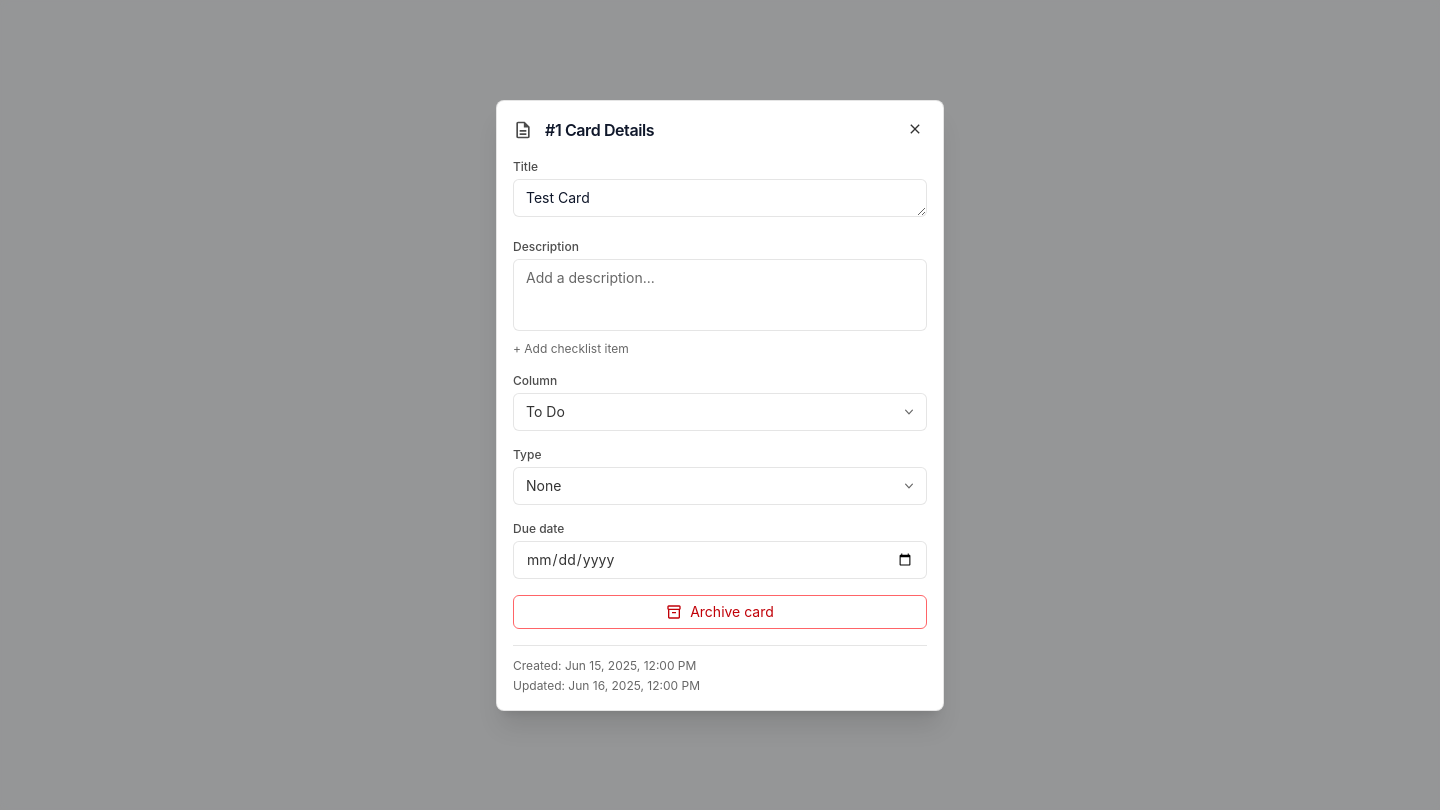
Test: CardDetailModal › checklist features › clicking add button reveals input
Click the button with test id "checklist-add-item-button" at (571, 348), box [513,340,629,356]
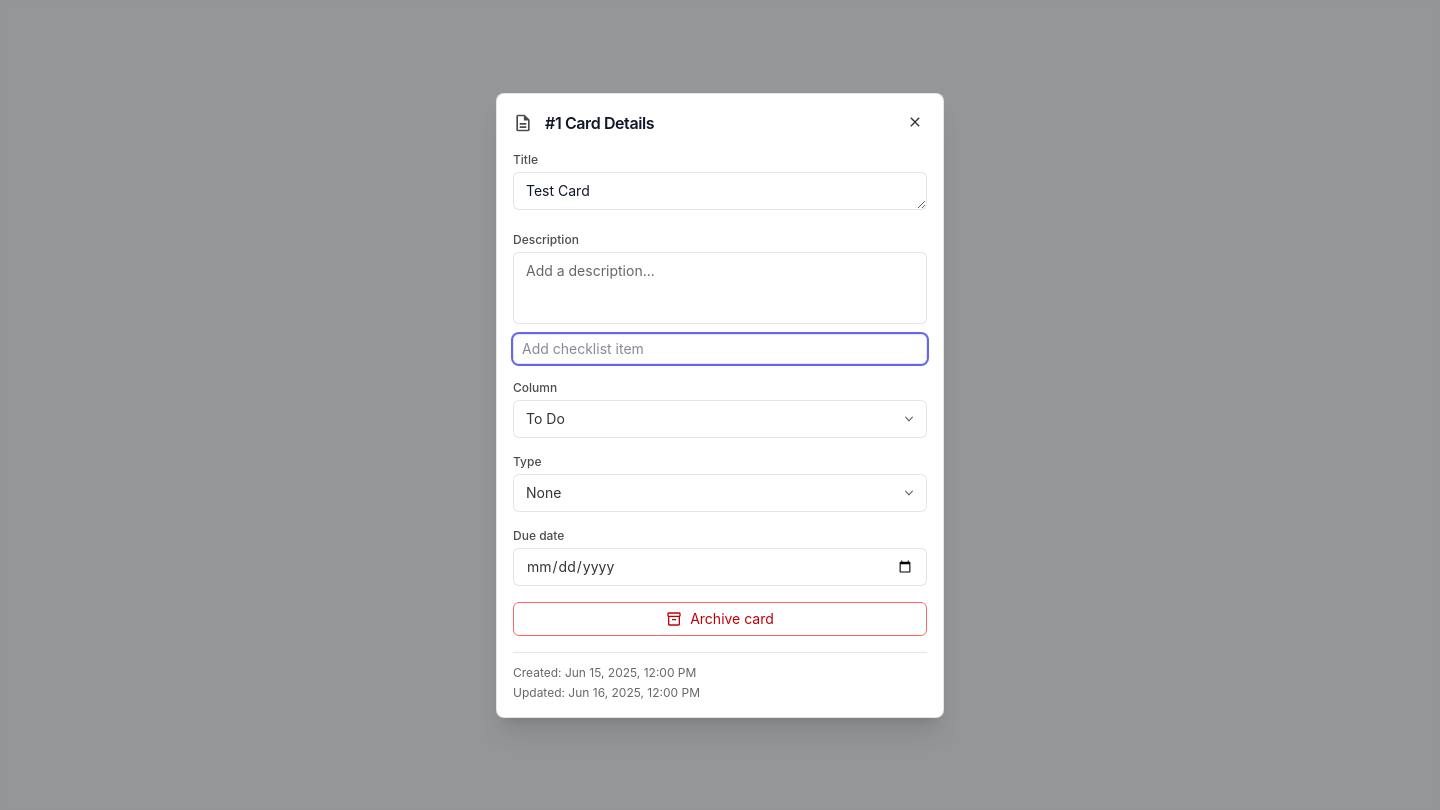
Expected: the field with test id "checklist-add-item-input" is shown, [513,334,927,364]
